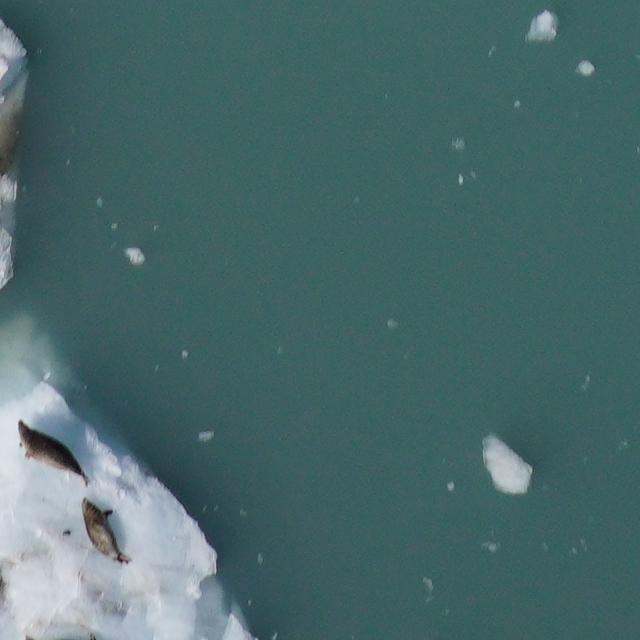seal: (14, 416, 95, 491), (78, 494, 136, 568)
